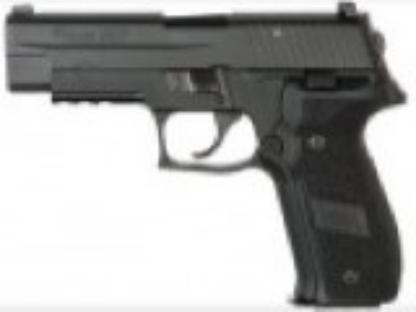pistol: (2, 0, 406, 306)
